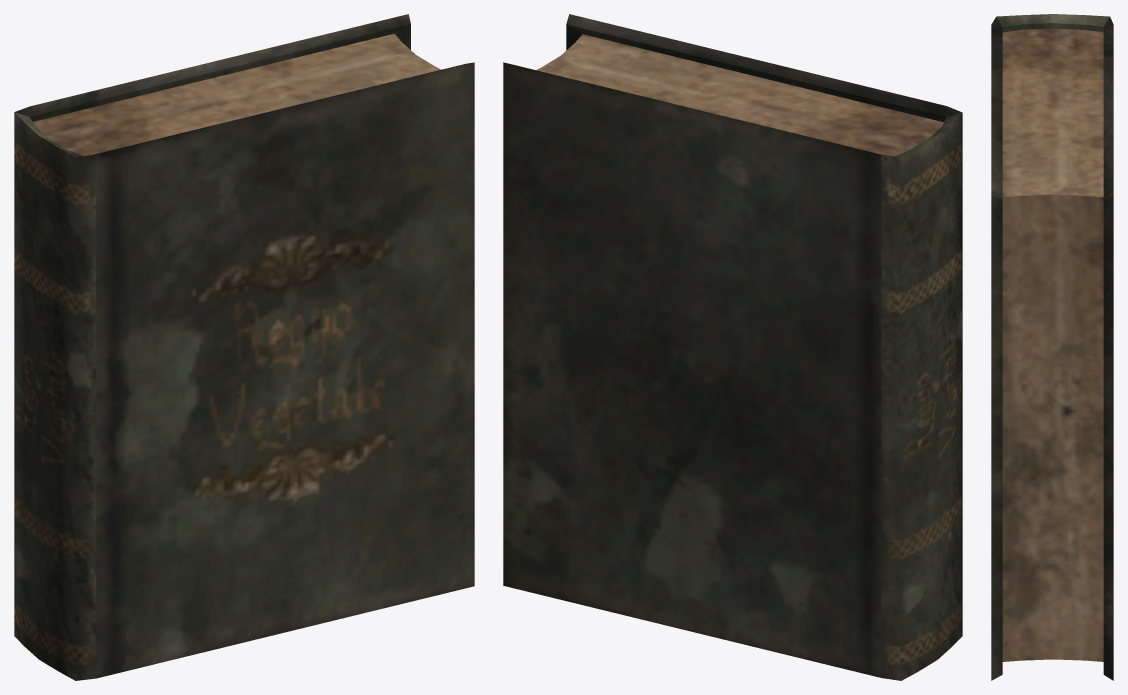
Rendered from book03.dae.
The picture shows the model from 3 angles, left to right: view 1: azimuth 30°, elevation 25°; view 2: azimuth 150°, elevation 25°; view 3: azimuth 270°, elevation 25°; orthographic projection. The views are drawn at different scales.
Parts seen in each view (by area): view 1: pCube1; view 2: pCube1; view 3: pCube1.
Boxes of the visible parts, left/top/right/bottom form: pCube1: left=14, top=14, right=474, bottom=680; pCube1: left=503, top=14, right=962, bottom=680; pCube1: left=991, top=14, right=1113, bottom=680.
Size of the model in its own units: 0.2811 by 0.35 by 0.08.
